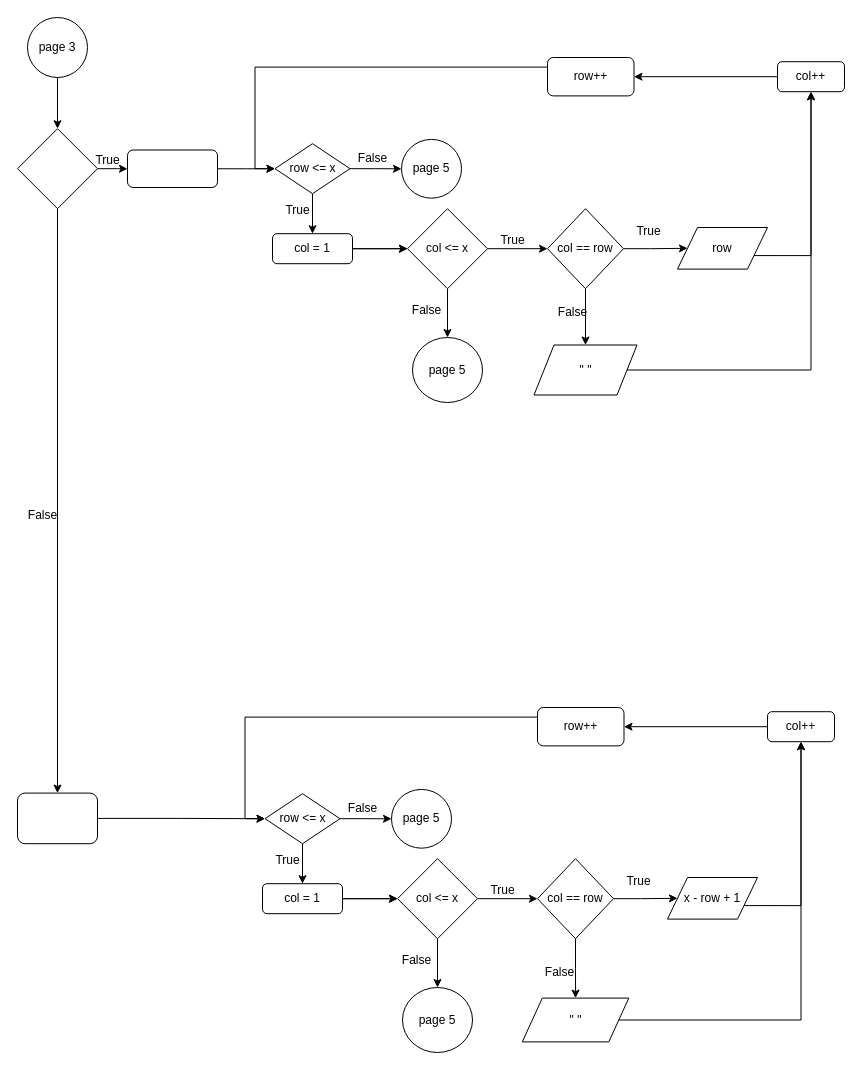
This 862x1070 diagram has some shape labels left out. The box of each missing label's shape, as (x1, y1, x2, y2) in pixels:
row = 1: (126, 149, 218, 188)
row =1: (16, 792, 98, 844)
x % 2 == 0: (16, 128, 98, 209)
